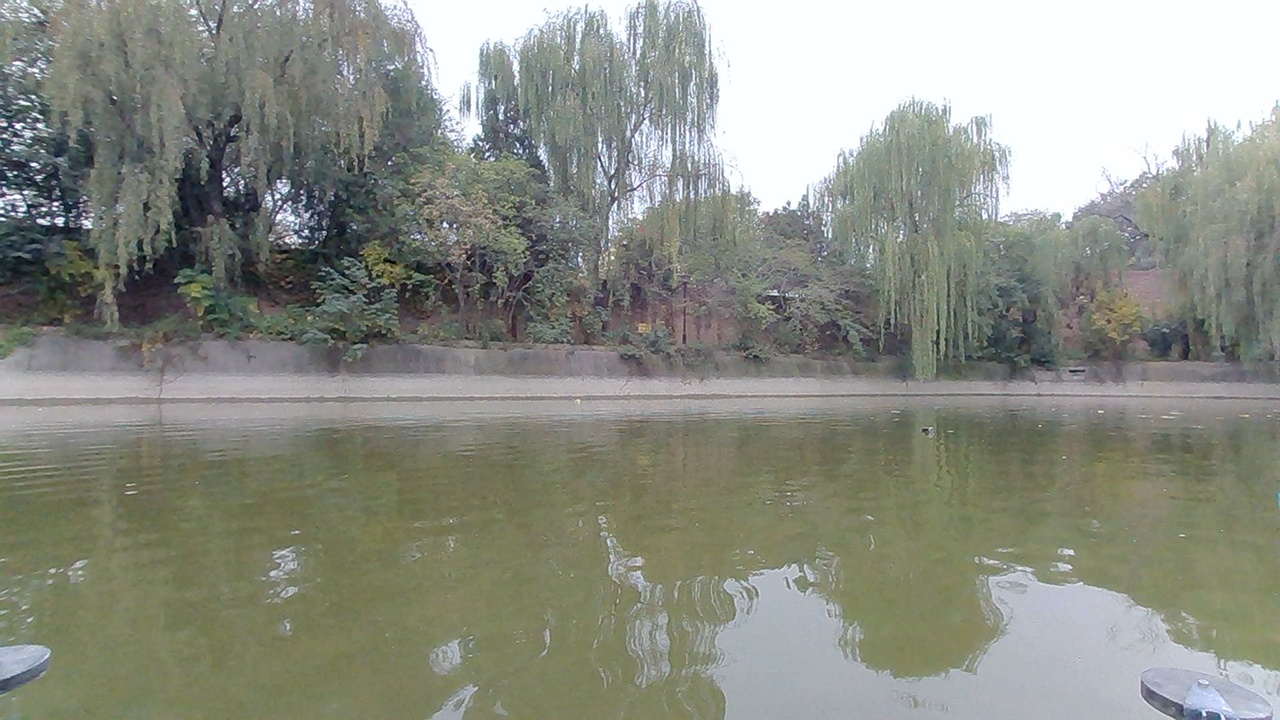bottle: (913, 416, 941, 442)
